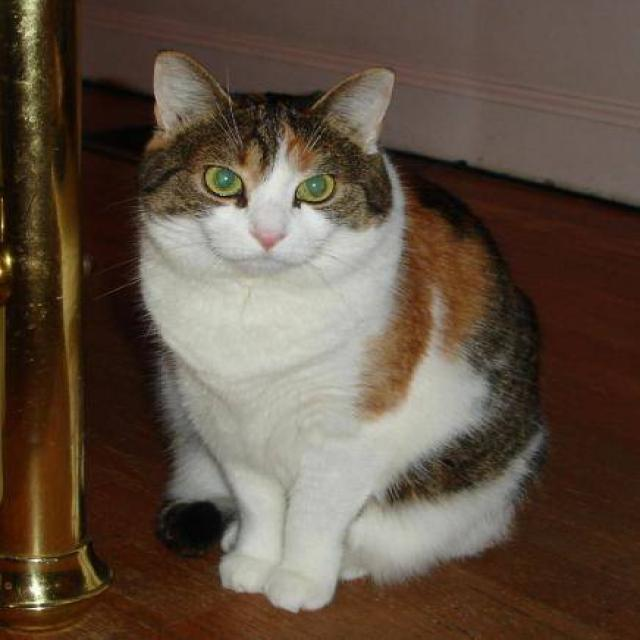cat: (125, 47, 548, 613)
